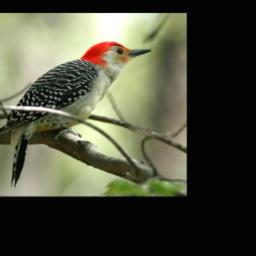Woodpecker: (0, 40, 152, 187)
